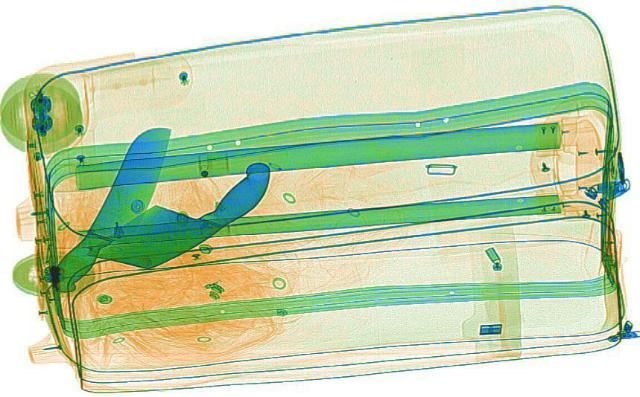Knife: (80, 150, 300, 279), (44, 121, 190, 300)
